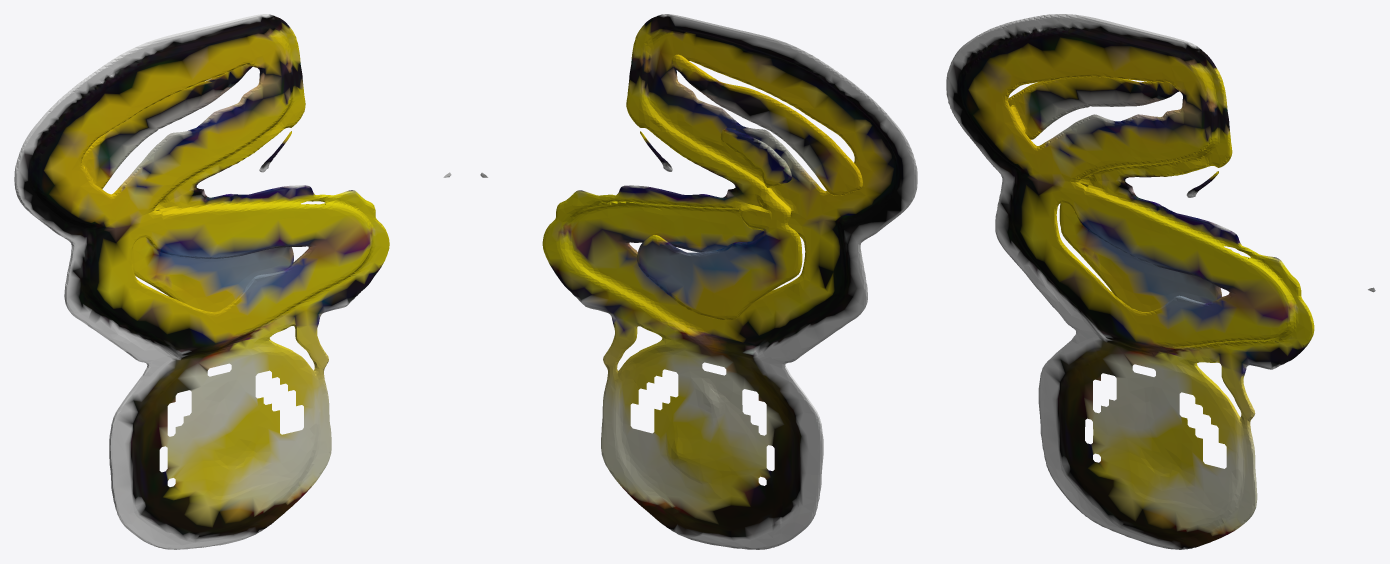
File: amulet.glb
The picture shows the model from 3 angles, left to right: view 1: azimuth 30°, elevation 25°; view 2: azimuth 150°, elevation 25°; view 3: azimuth 330°, elevation 25°; orthographic projection.
Parts seen in each view (by area): view 1: geometry_0; view 2: geometry_0; view 3: geometry_0.
Boxes of the visible parts, box(x1,y1,x2,y2) form: geometry_0: box(14, 14, 451, 549); geometry_0: box(480, 14, 917, 549); geometry_0: box(946, 14, 1375, 549).
Size of the model in its own units: 0.5 by 0.5698 by 0.0146.
